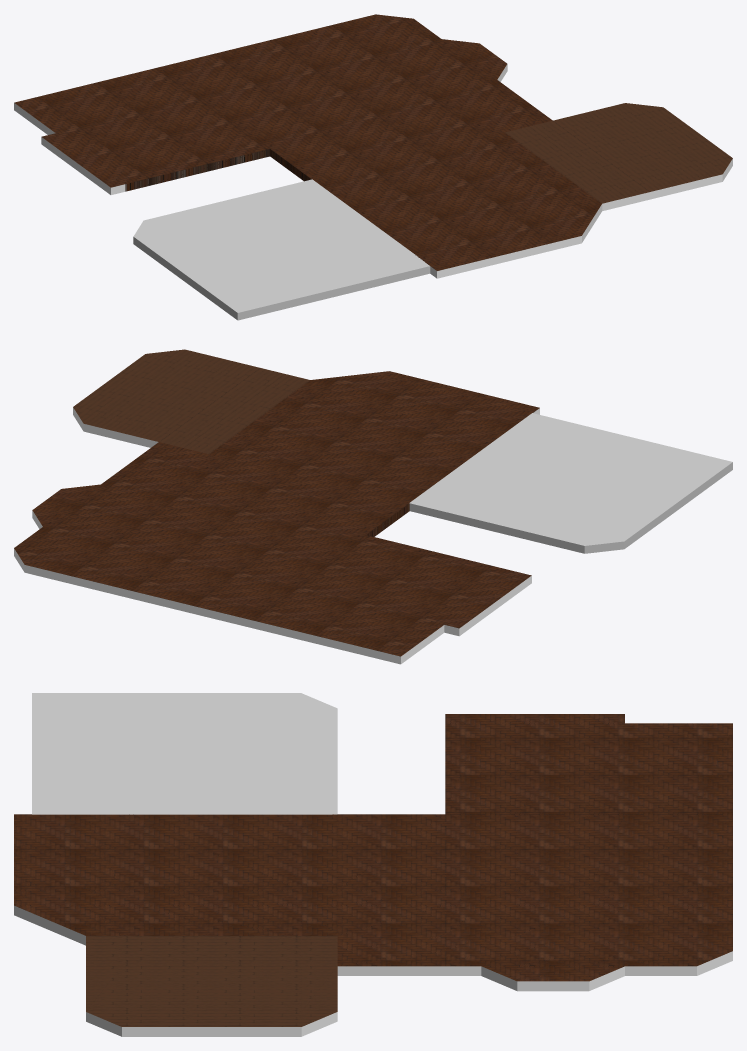
Rendered from LVL1_MainRoomsBlackBoard.fbx.
3 renders of one model, top to bottom at view 1: azimuth 30°, elevation 25°; view 2: azimuth 150°, elevation 25°; view 3: azimuth 270°, elevation 25°, orthographic. The views are drawn at different scales.
Visible parts, largest first — view 1: Floor_lv1_R0.001; view 2: Floor_lv1_R0.001; view 3: Floor_lv1_R0.001.
Part boxes in pixels (x1=…): Floor_lv1_R0.001: x1=14, y1=14, x2=732, y2=320; Floor_lv1_R0.001: x1=14, y1=349, x2=732, y2=664; Floor_lv1_R0.001: x1=14, y1=693, x2=732, y2=1036.
Bounding box in the file's own units: 20 × 21.98 × 0.3.
9 materials, 4 textured.
